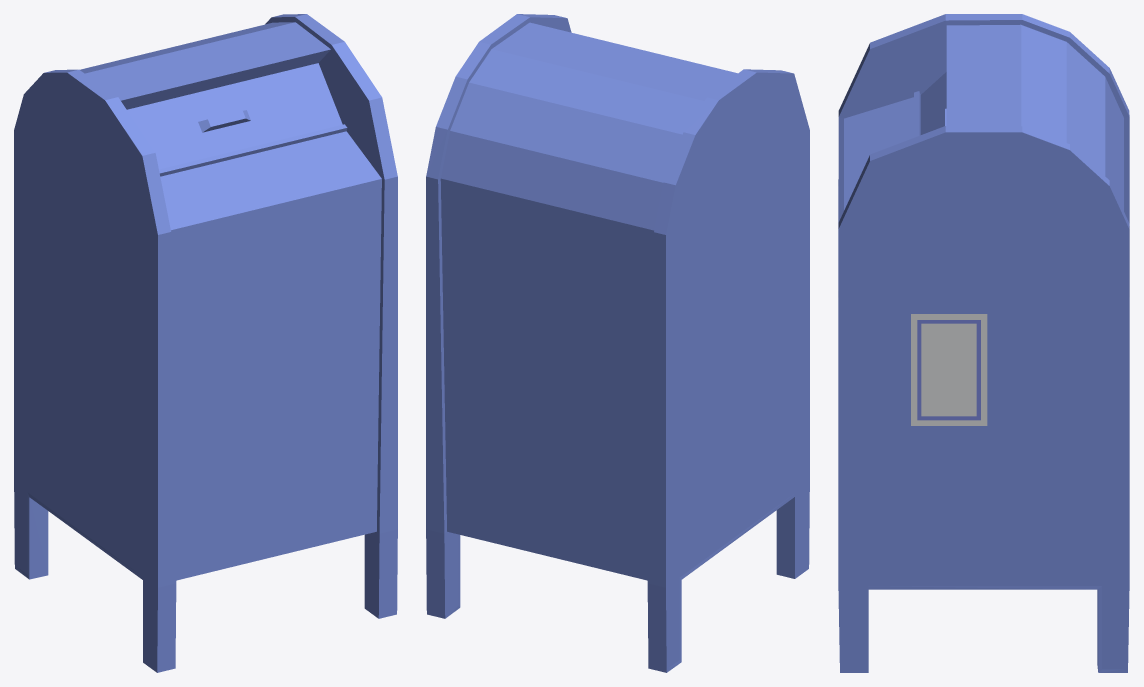
Rendered from mailbox.glb.
3 views of the same model, side by side, from view 1: azimuth 30°, elevation 25°; view 2: azimuth 150°, elevation 25°; view 3: azimuth 270°, elevation 25° (orthographic).
Visible parts, largest first — view 1: Mailbox; view 2: Mailbox; view 3: Mailbox.
Boxes of the visible parts, box(x1,y1,x2,y2) form: Mailbox: box(14, 14, 397, 672); Mailbox: box(426, 14, 809, 672); Mailbox: box(838, 14, 1129, 672).
Bounding box in the file's own units: 0.2179 × 0.4626 × 0.2258.
Materials: 1 (1 with a texture image).
